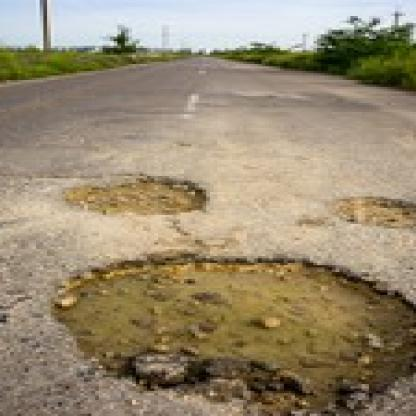pothole: (47, 256, 416, 416), (58, 174, 210, 217), (325, 194, 416, 233)
